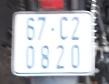0: (68, 43, 81, 69), (25, 42, 36, 69)
2: (54, 43, 66, 70), (72, 14, 81, 42)
6: (25, 16, 35, 40)
7: (37, 15, 48, 40)
8: (39, 43, 51, 70)
C: (57, 14, 68, 40)
